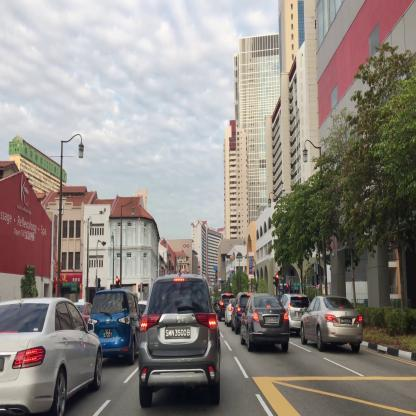red_traffic_light: (276, 273, 278, 286), (226, 254, 232, 258), (116, 277, 118, 288)
